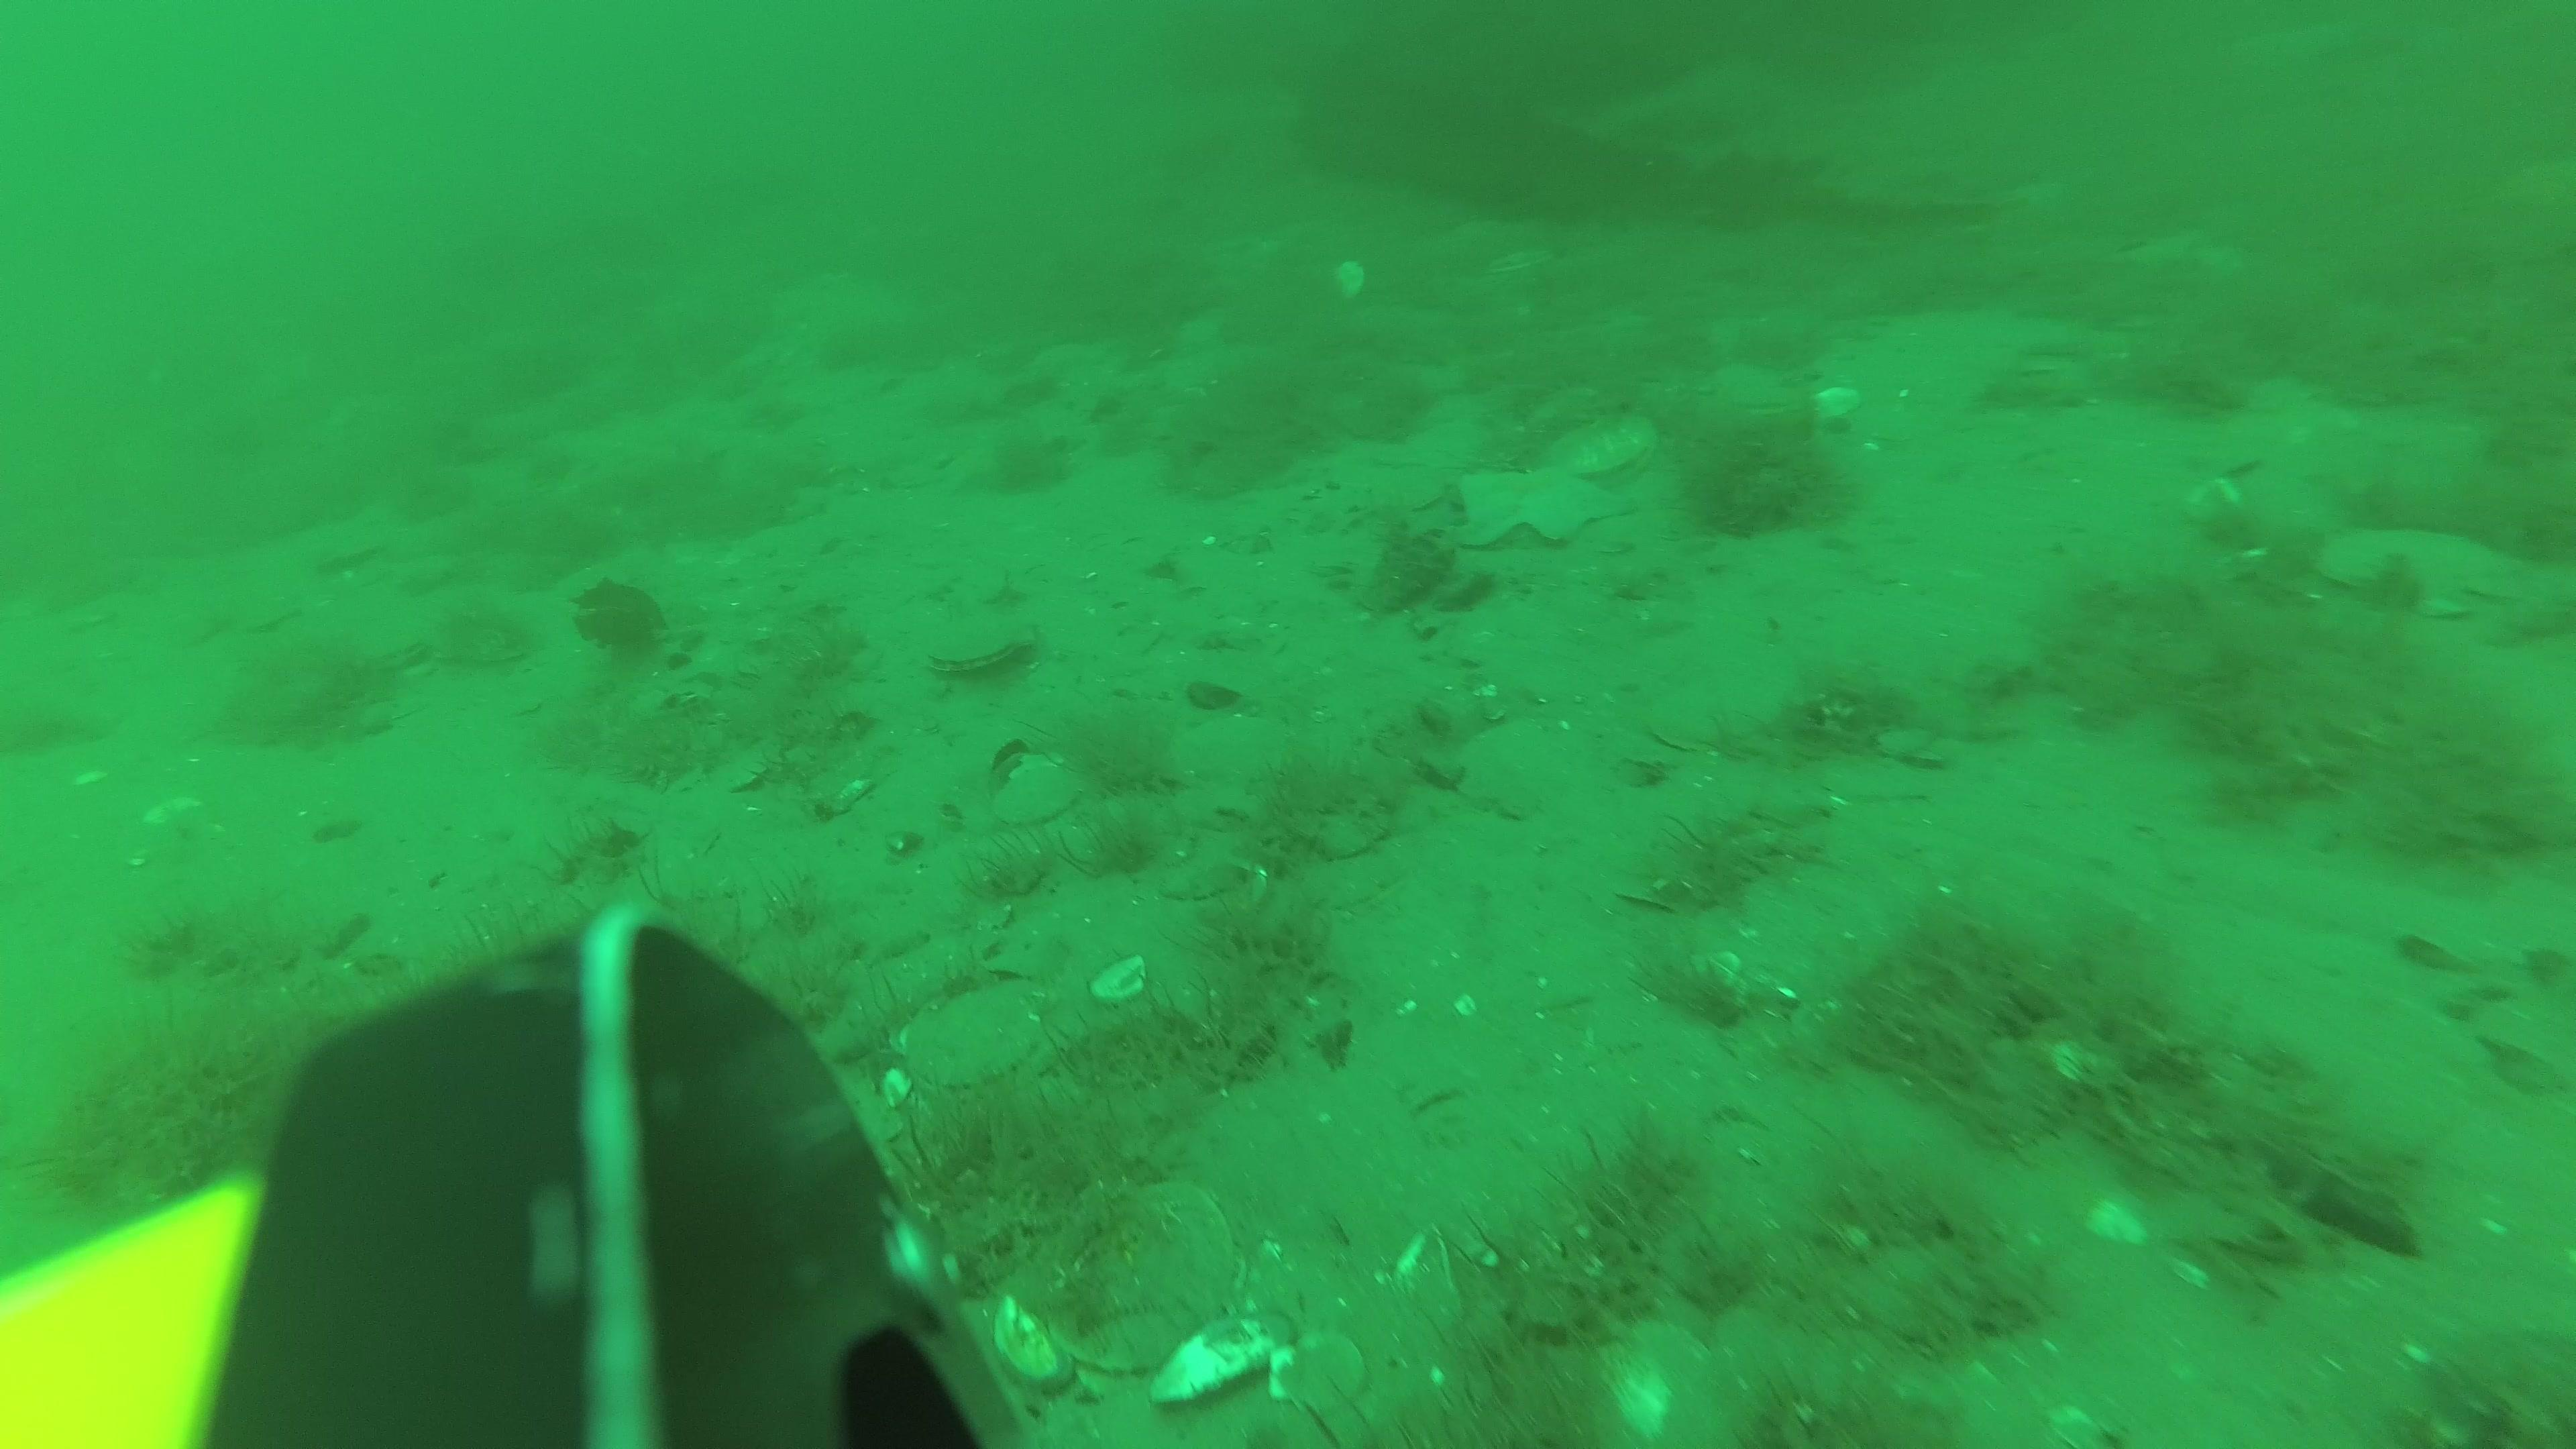scallop: (1054, 1180, 1242, 1375), (2321, 525, 2537, 623), (902, 984, 1060, 1106), (1274, 1330, 1371, 1417), (1546, 410, 1665, 478), (925, 607, 1039, 672), (1697, 363, 1808, 425), (1484, 244, 1545, 274), (1334, 253, 1368, 301)
starfish: (1449, 462, 1619, 550)
